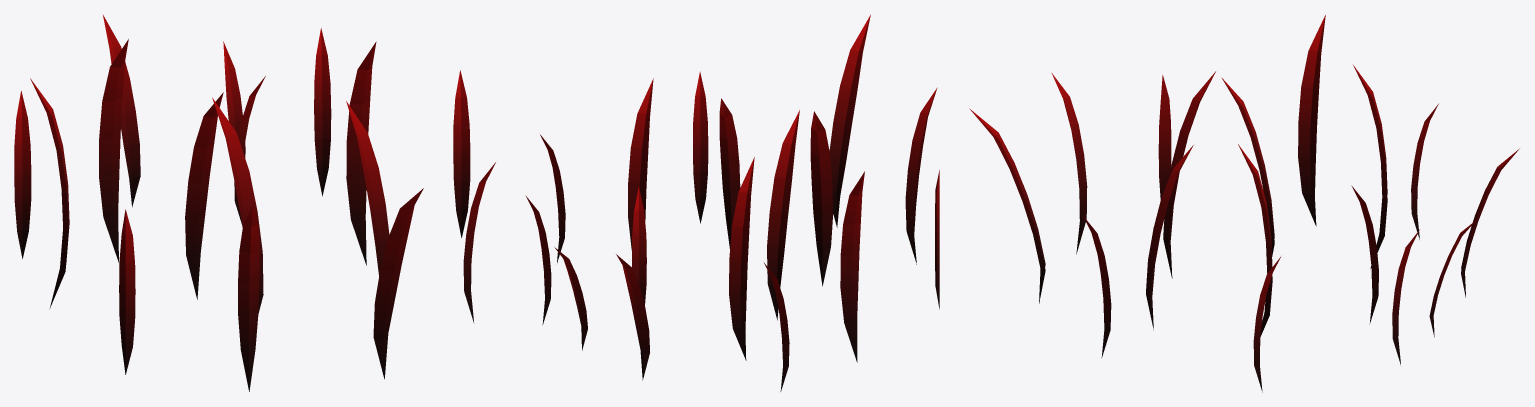
Rendered from Grass.fbx.
The picture shows the model from 3 angles, left to right: view 1: azimuth 30°, elevation 25°; view 2: azimuth 150°, elevation 25°; view 3: azimuth 270°, elevation 25°; orthographic projection. The views are drawn at different scales.
Visible parts, largest first — view 1: Plane.017; view 2: Plane.017; view 3: Plane.017.
Part boxes in pixels (left/top/right/bottom): Plane.017: left=14, top=15, right=495, bottom=391; Plane.017: left=525, top=14, right=939, bottom=391; Plane.017: left=969, top=15, right=1519, bottom=392.
Bounding box in the file's own units: 0.6559 × 0.3589 × 0.8681.
